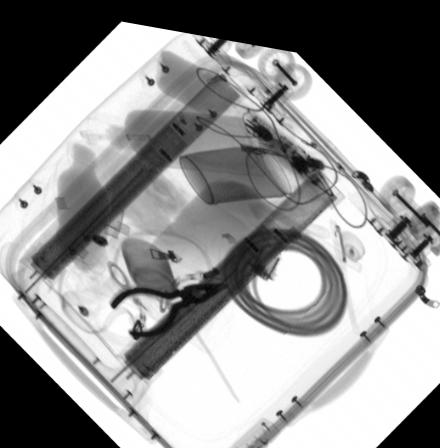Pliers: (107, 276, 222, 334)
